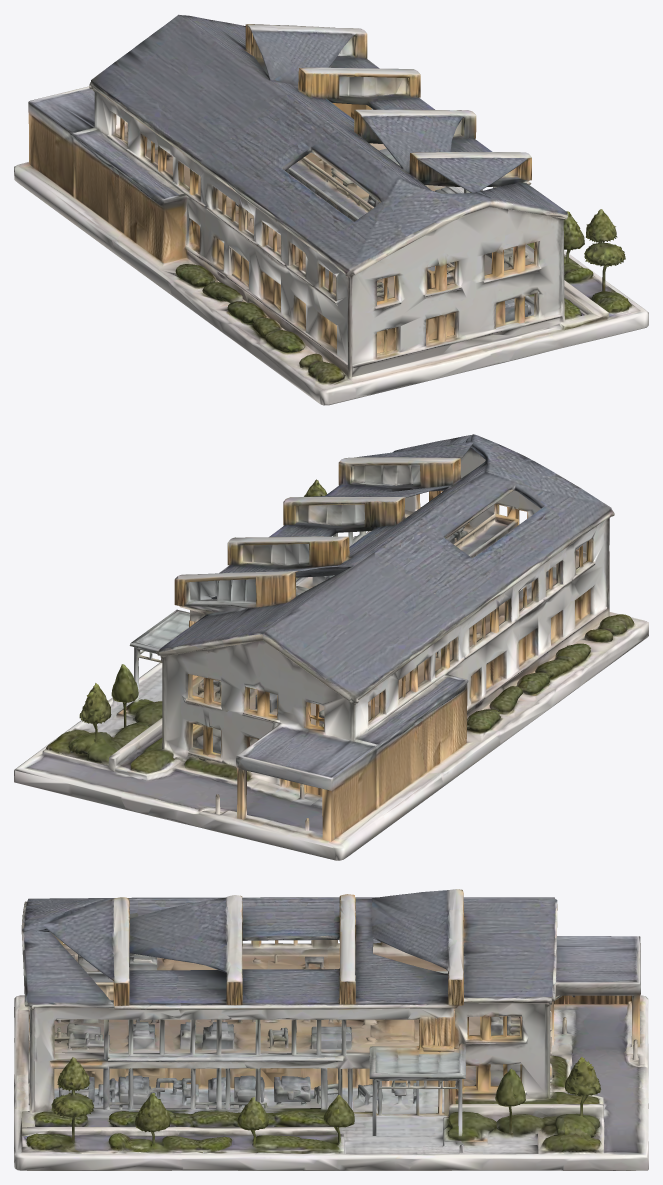
Rendered from b2-research.glb.
3 views of the same model, one above another, from view 1: azimuth 30°, elevation 25°; view 2: azimuth 150°, elevation 25°; view 3: azimuth 270°, elevation 25° (orthographic).
Visible parts, largest first — view 1: tripo_node_87fe02d6-54fe-4a5d-9ba9-15bafae7cfd3; view 2: tripo_node_87fe02d6-54fe-4a5d-9ba9-15bafae7cfd3; view 3: tripo_node_87fe02d6-54fe-4a5d-9ba9-15bafae7cfd3.
Boxes of the visible parts, x1,y1,x2,y2 form: tripo_node_87fe02d6-54fe-4a5d-9ba9-15bafae7cfd3: (14,14,648,405); tripo_node_87fe02d6-54fe-4a5d-9ba9-15bafae7cfd3: (14,434,648,860); tripo_node_87fe02d6-54fe-4a5d-9ba9-15bafae7cfd3: (14,889,648,1170).
Size of the model in its own units: 0.5955 by 0.3245 by 0.9791.
Materials: 1 (1 with a texture image).
